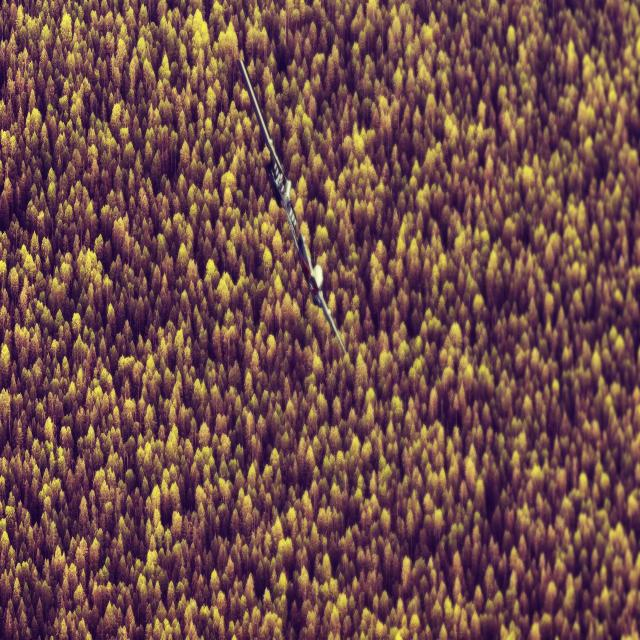airplane: (236, 57, 348, 357)
